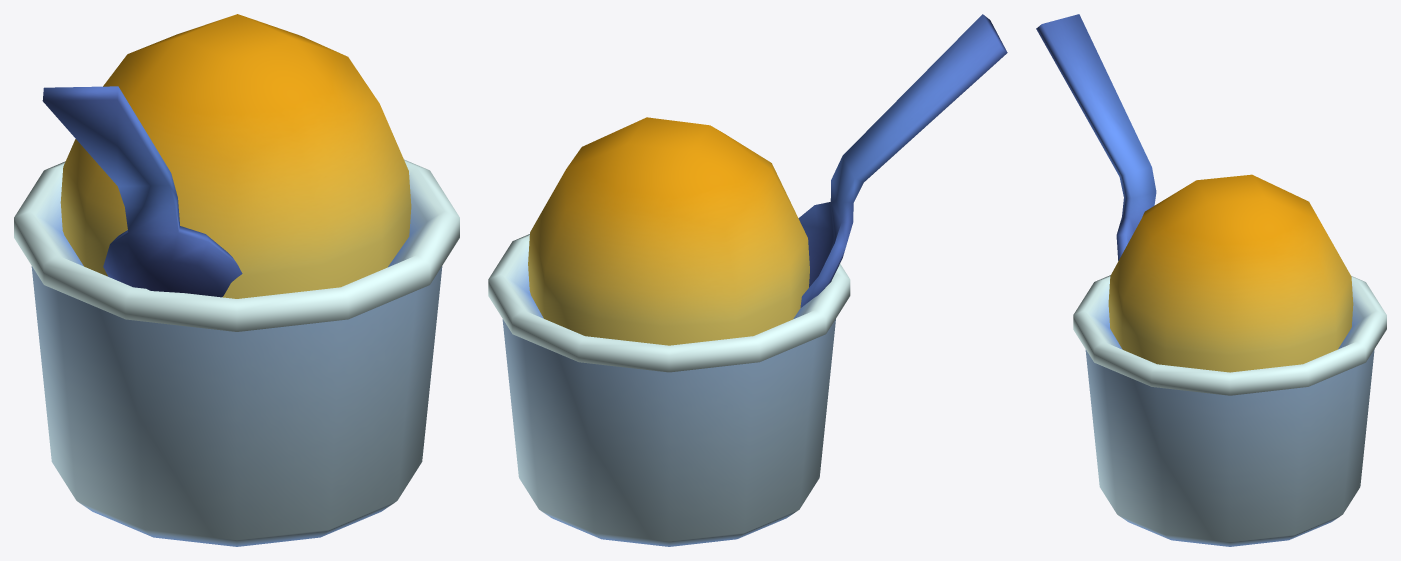
Rendered from m_ShavedIce02.fbx.
3 views of the same model, side by side, from view 1: azimuth 30°, elevation 25°; view 2: azimuth 150°, elevation 25°; view 3: azimuth 270°, elevation 25° (orthographic). The views are drawn at different scales.
Visible parts, largest first — view 1: m_ShavedIce02; view 2: m_ShavedIce02; view 3: m_ShavedIce02.
Part boxes in pixels (box(x1,y1,x2,y2)): m_ShavedIce02: box(14, 14, 459, 546); m_ShavedIce02: box(488, 14, 1007, 546); m_ShavedIce02: box(1036, 14, 1386, 546).
Size of the model in its own units: 17.63 by 18.57 by 15.27.
